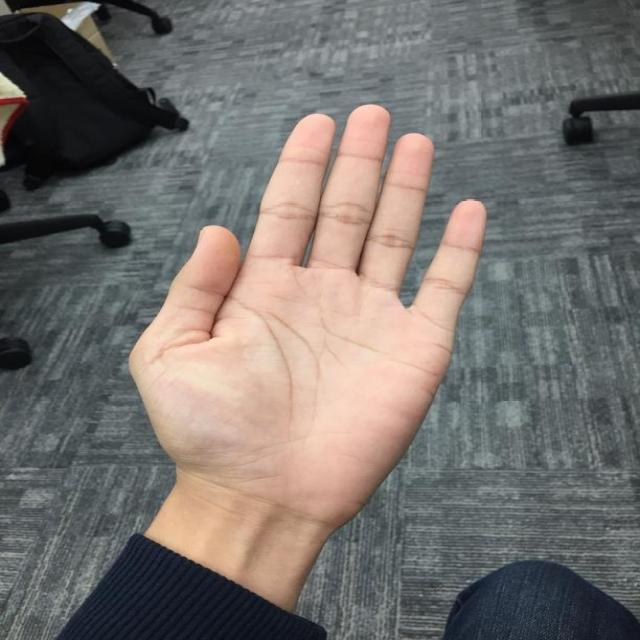hand: (128, 103, 491, 532)
